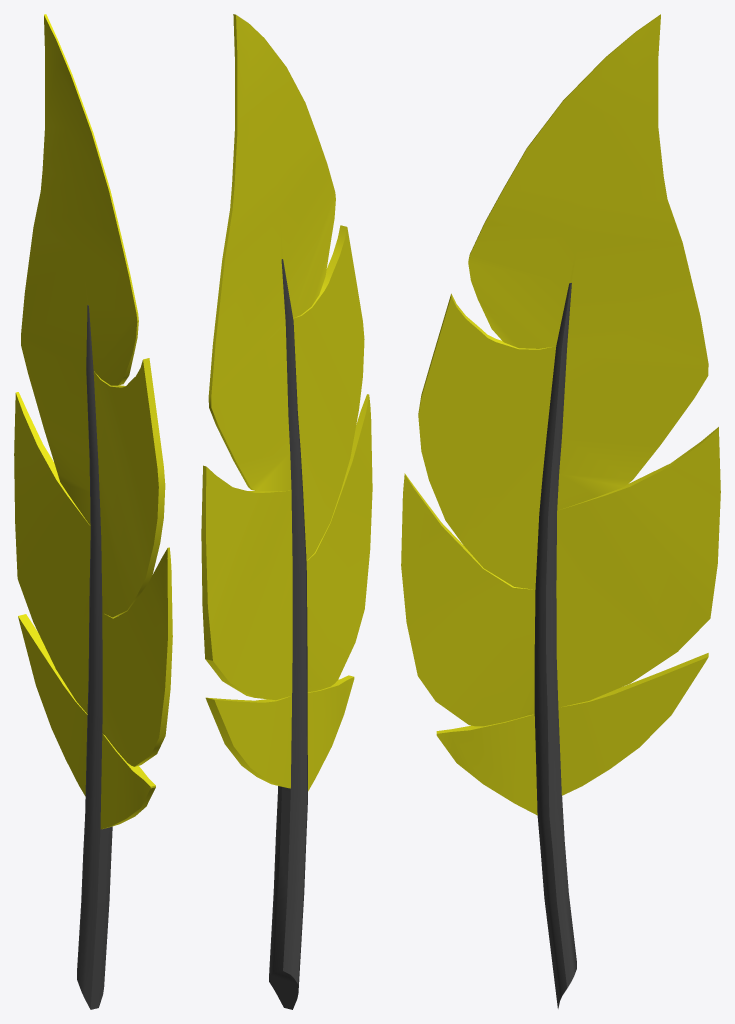
File: penaAmarela.fbx
The picture shows the model from 3 angles, left to right: view 1: azimuth 30°, elevation 25°; view 2: azimuth 150°, elevation 25°; view 3: azimuth 270°, elevation 25°; orthographic projection. The views are drawn at different scales.
Visible parts, largest first — view 1: Cylinder; view 2: Cylinder; view 3: Cylinder.
Part boxes in pixels (x1,y1,x2,y2): Cylinder: (14, 14, 172, 1009); Cylinder: (201, 14, 372, 1009); Cylinder: (401, 14, 720, 1008).
Bounding box in the file's own units: 21.36 × 732 × 214.
